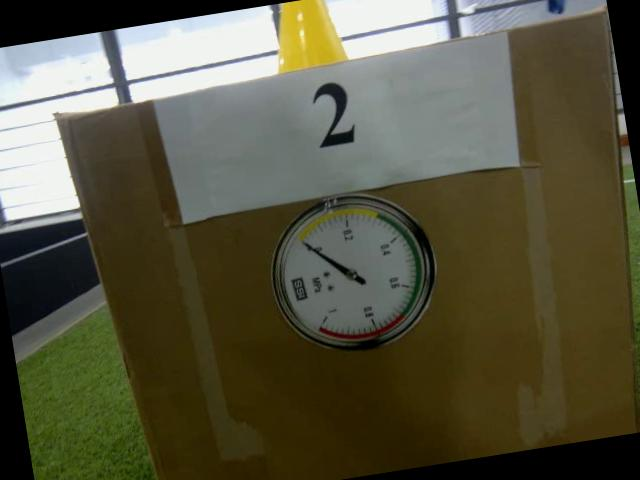2: (304, 77, 358, 153)
Dashboard: (257, 184, 450, 366)
ssi: (288, 272, 310, 304)
yellow_barrel: (264, 0, 351, 77)
